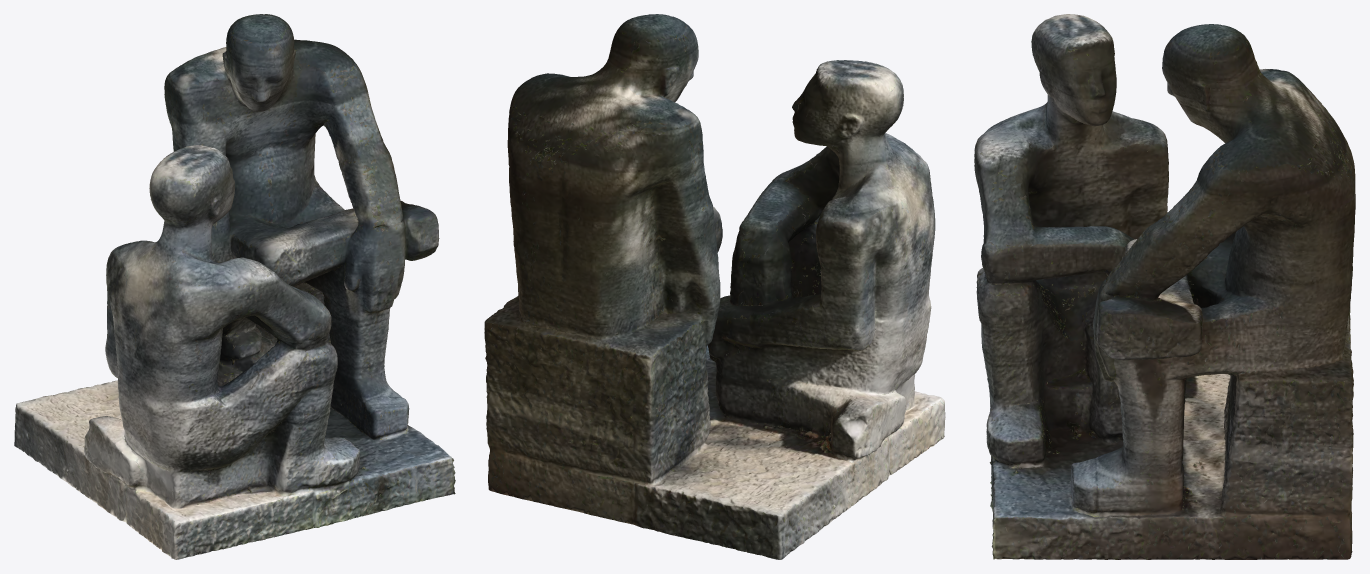
File: preview.glb
The picture shows the model from 3 angles, left to right: view 1: azimuth 30°, elevation 25°; view 2: azimuth 150°, elevation 25°; view 3: azimuth 270°, elevation 25°; orthographic projection. The views are drawn at different scales.
Parts seen in each view (by area): view 1: Object_2; view 2: Object_2; view 3: Object_2.
Part boxes in pixels (x1,y1,x2,y2): Object_2: (14, 14, 455, 559); Object_2: (484, 14, 945, 559); Object_2: (974, 14, 1355, 559).
Size of the model in its own units: 1.36 by 1.72 by 1.25.
1 material, 1 textured.
